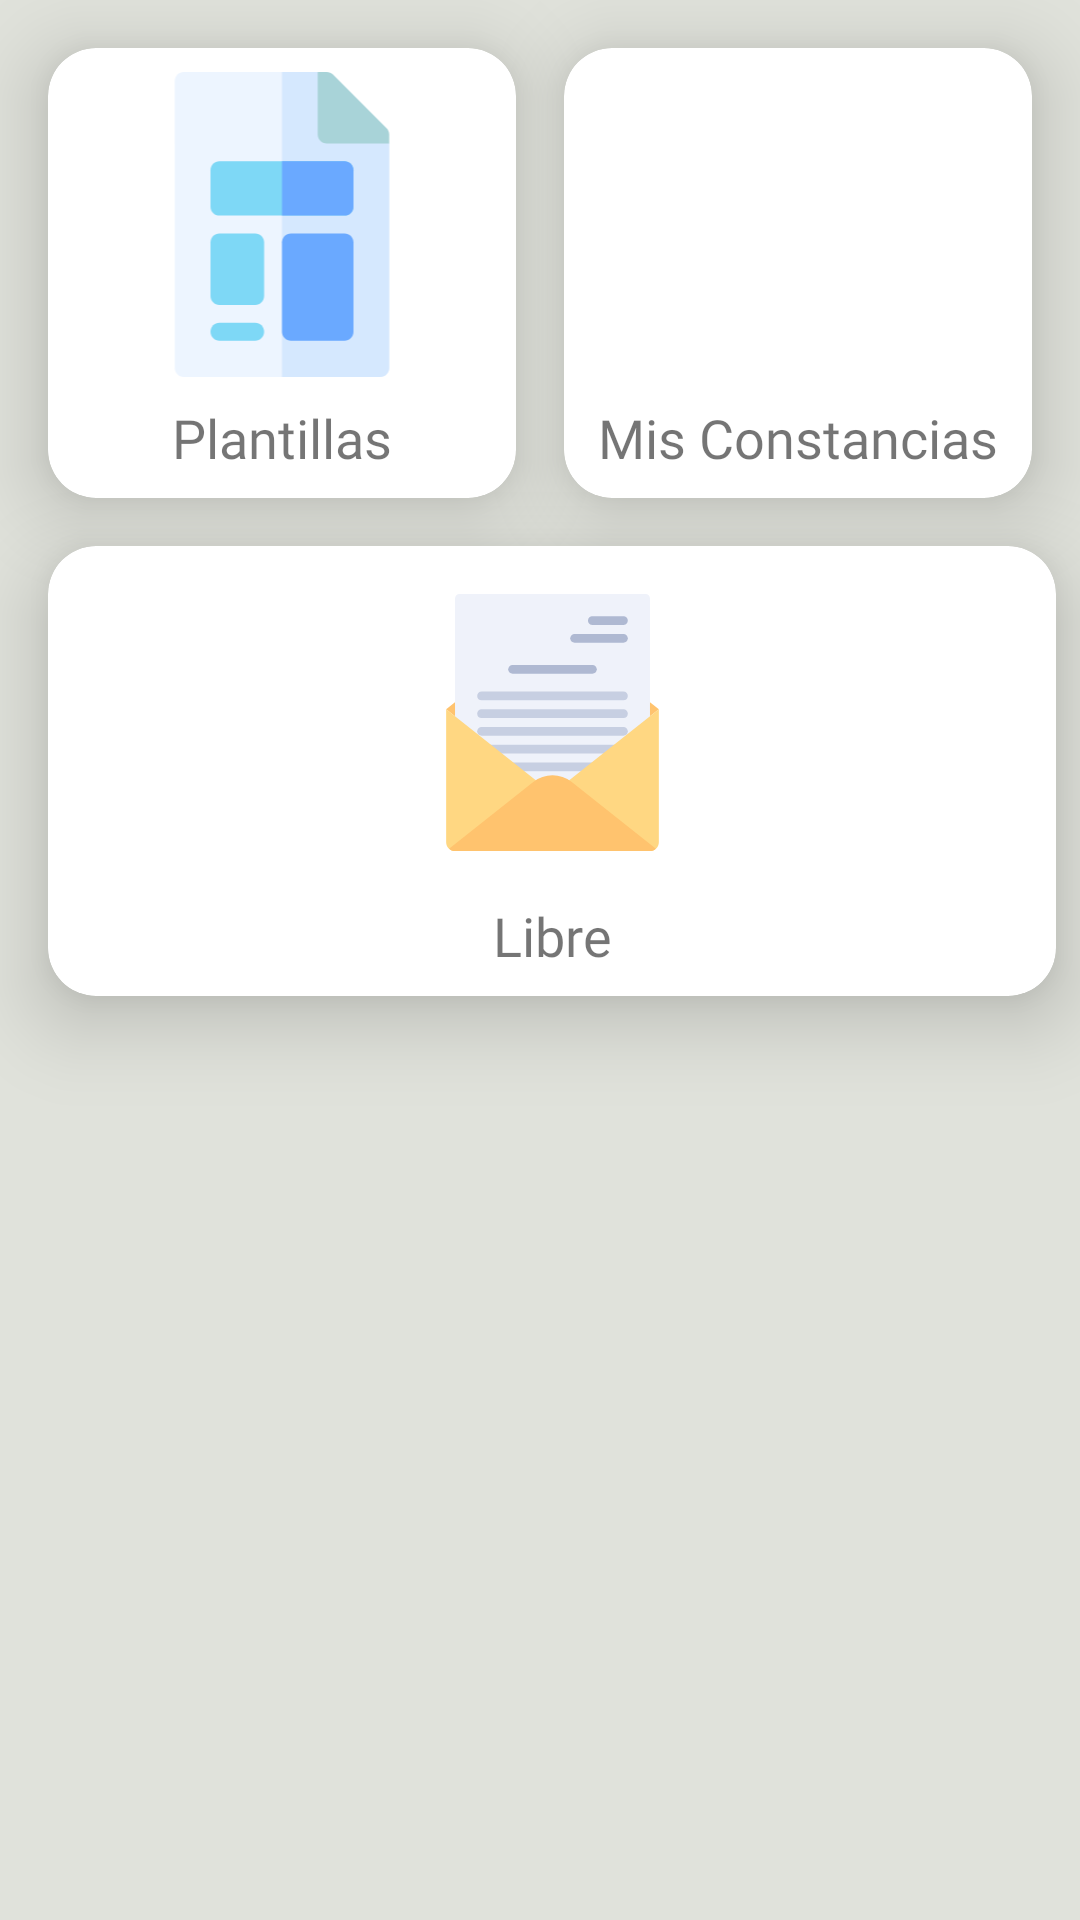

Icons on this 1080px x 1920px Android screen, each with its box as (x1, y1, x2, y2):
letter: (446, 616, 659, 851)
